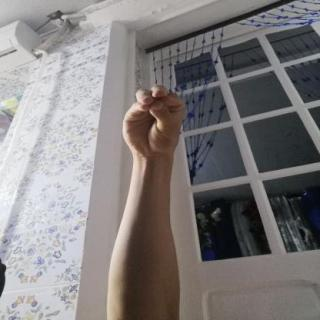HA: (110, 76, 199, 166)
